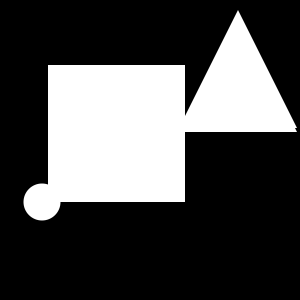circle: (48, 65, 185, 202)
rectangle: (24, 184, 61, 220)
triangle: (178, 13, 297, 132), (179, 10, 297, 128), (95, 84, 182, 171)
